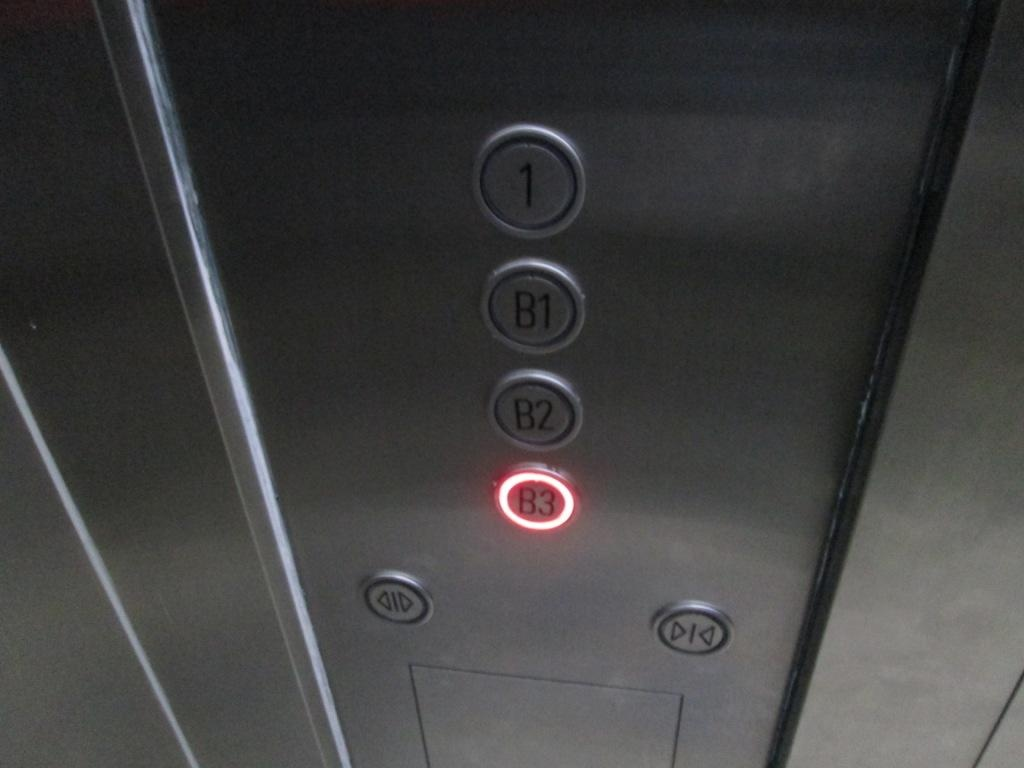1: (471, 123, 586, 242)
B1: (479, 256, 586, 358)
B2: (486, 366, 585, 453)
B3: (492, 462, 579, 533)
close: (648, 598, 735, 659)
open: (360, 570, 436, 629)
